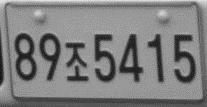1: (146, 32, 164, 82)
4: (118, 32, 143, 83)
5: (173, 33, 196, 83), (93, 33, 116, 82)
8: (14, 32, 37, 80)
9: (38, 31, 61, 81)
조: (64, 41, 89, 82)
